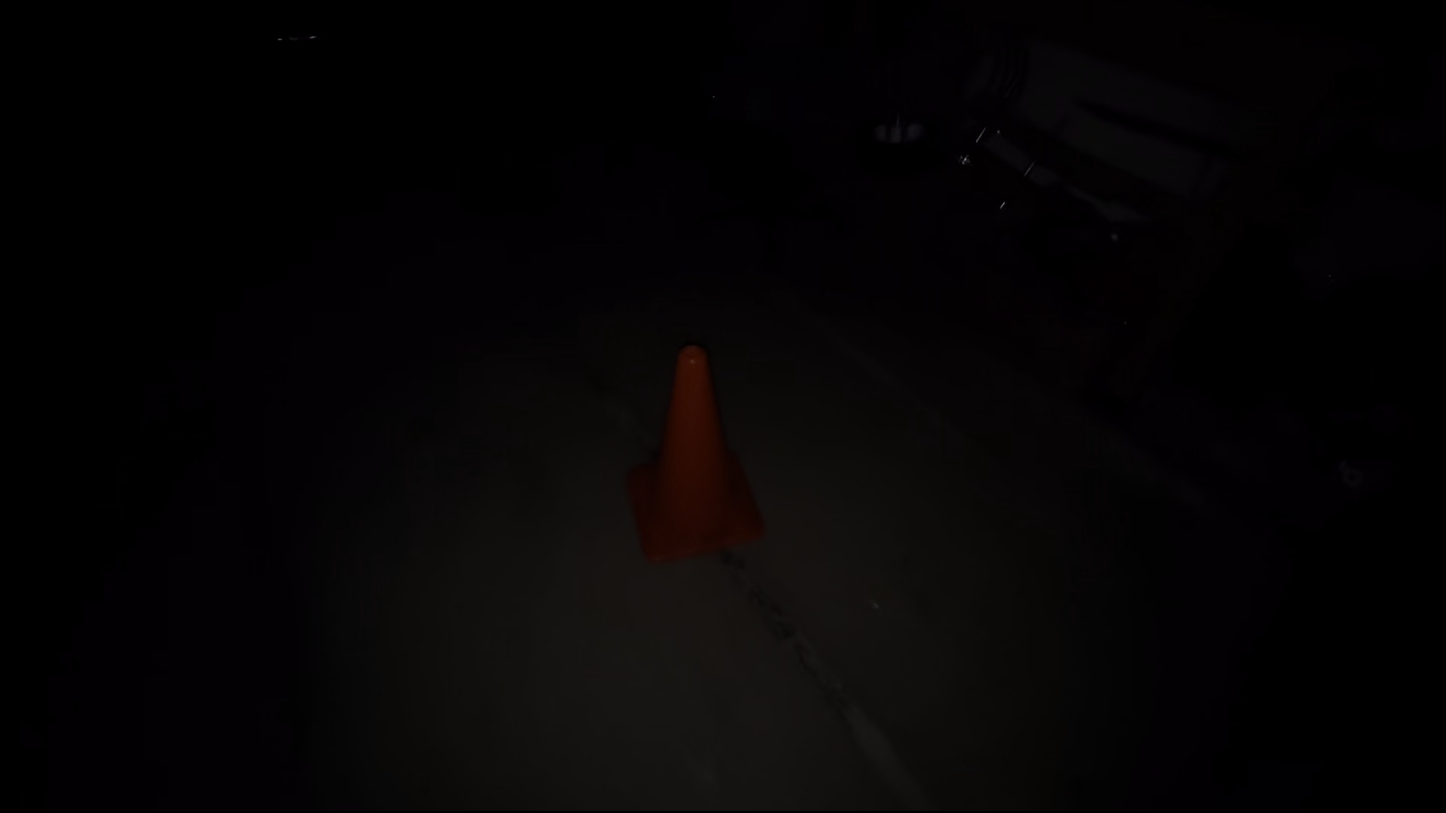traffic_cone: (627, 343, 766, 563)
